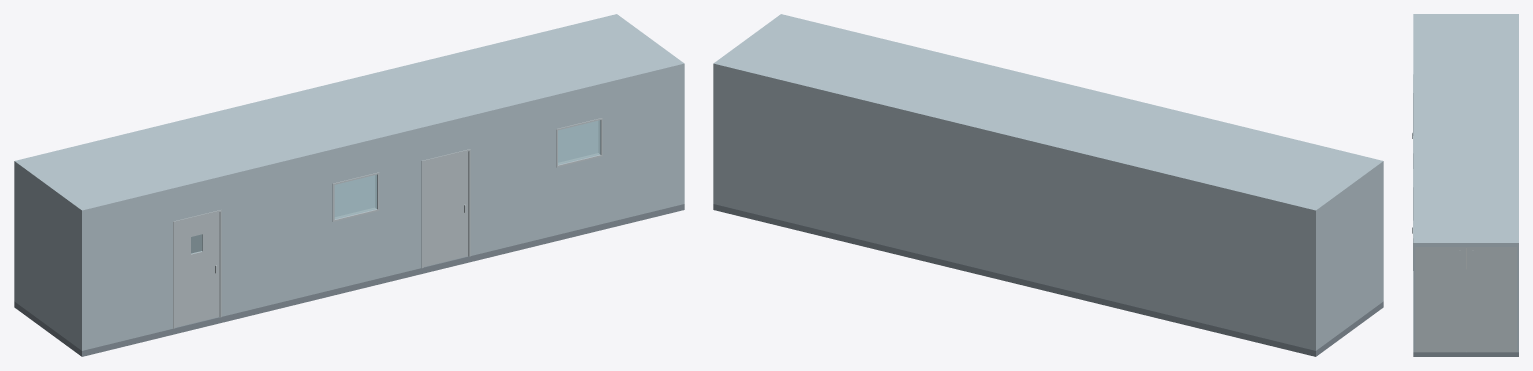
The model's file is container.glb.
3 renders of one model, left to right at view 1: azimuth 30°, elevation 25°; view 2: azimuth 150°, elevation 25°; view 3: azimuth 270°, elevation 25°, orthographic. The views are drawn at different scales.
Visible parts, largest first — view 1: Near_Wall, Roof, End_A, ProcessingExternalDoor, ColdExternalDoorViewed, Floor, WindowCPane1, WindowBPane1, WindowBPane2, WindowCPane2, BFarLining, CFarLining; view 2: Far_Wall, Roof, End_A, Floor; view 3: Roof, ContainerDoorLeft, ContainerDoorRight, Floor, Near_Wall, Far_Wall, ContainerLockL, ContainerLockR.
Part boxes in pixels (x1,y1,x2,y2): Near_Wall: (81,68,684,350); Roof: (14,14,684,215); End_A: (15,167,80,349); ProcessingExternalDoor: (423,151,468,266); ColdExternalDoorViewed: (174,212,219,327); Floor: (14,204,684,356); WindowCPane1: (558,120,600,164); WindowBPane1: (334,175,376,219); WindowBPane2: (335,175,376,218); WindowCPane2: (558,120,599,164); BFarLining: (335,175,374,216); CFarLining: (558,121,597,162); Far_Wall: (713,68,1316,350); Roof: (713,14,1383,215); End_A: (1317,167,1382,349); Floor: (713,204,1383,356); Roof: (1413,14,1518,246); ContainerDoorLeft: (1415,247,1465,352); ContainerDoorRight: (1466,247,1516,352); Floor: (1413,351,1518,356); Near_Wall: (1413,247,1415,352); Far_Wall: (1517,247,1518,352); ContainerLockL: (1459,250,1460,349); ContainerLockR: (1472,250,1473,349).
Size of the model in its own units: 12.55 by 2.91 by 2.47.
